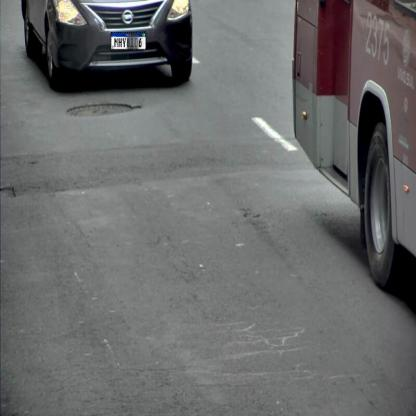PlacaM: (111, 32, 146, 50)
